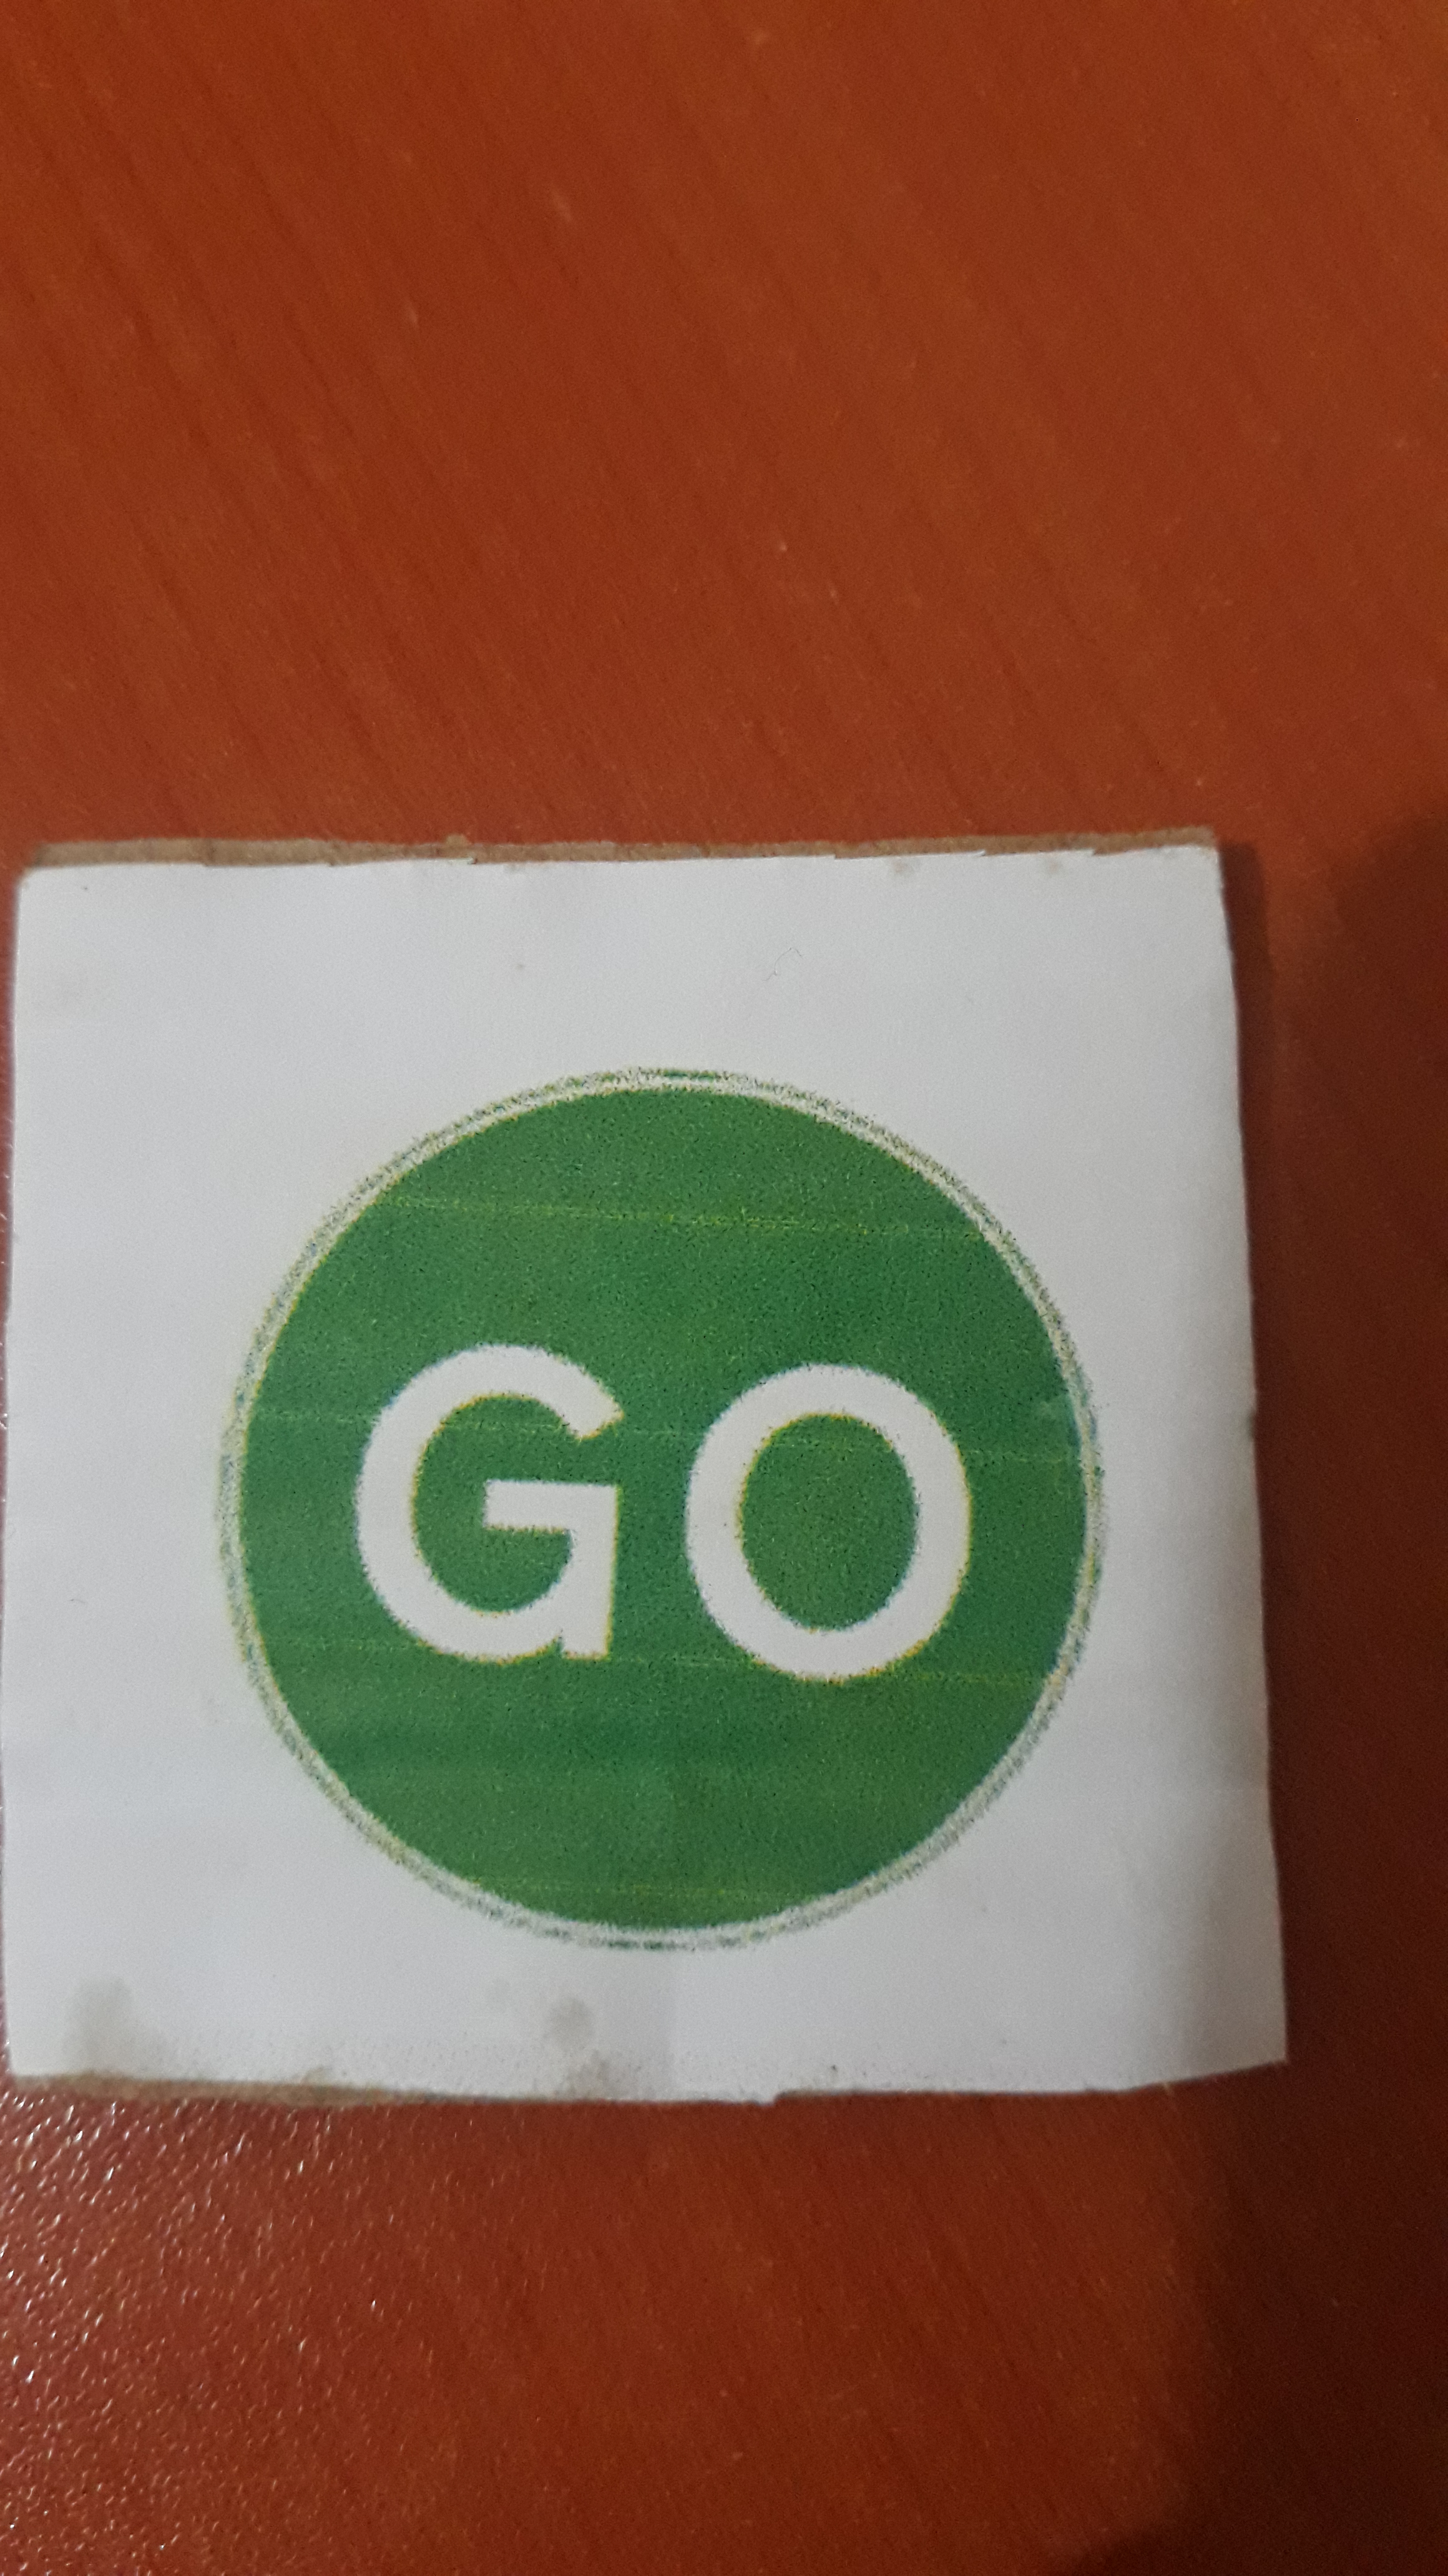go: (73, 922, 1211, 2040)
